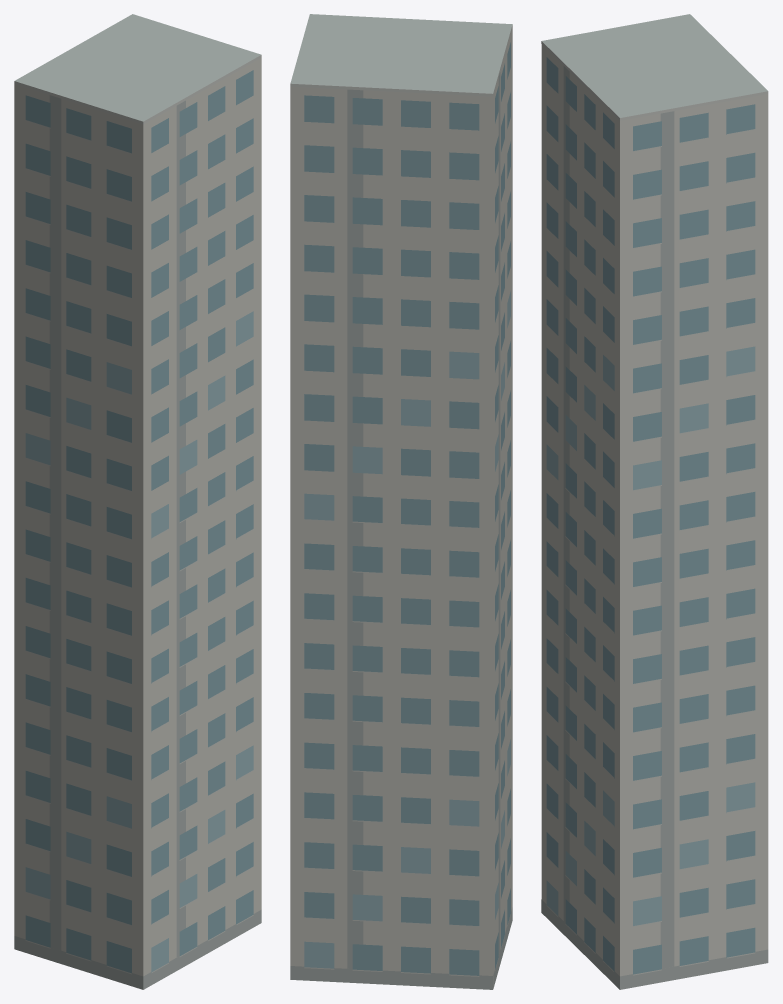
The model's file is residential-f878a995-dc59-4c0d-9200-f9db8b8c3e6a.glb.
The picture shows the model from 3 angles, left to right: view 1: azimuth 30°, elevation 25°; view 2: azimuth 150°, elevation 25°; view 3: azimuth 270°, elevation 25°; orthographic projection. The views are drawn at different scales.
Parts seen in each view (by area): view 1: residential-f878a995-dc59-4c0d-9200-f9db8b8c3e6a.tmp; view 2: residential-f878a995-dc59-4c0d-9200-f9db8b8c3e6a.tmp; view 3: residential-f878a995-dc59-4c0d-9200-f9db8b8c3e6a.tmp.
Part boxes in pixels (x1=…): residential-f878a995-dc59-4c0d-9200-f9db8b8c3e6a.tmp: x1=14, y1=14, x2=261, y2=989; residential-f878a995-dc59-4c0d-9200-f9db8b8c3e6a.tmp: x1=290, y1=14, x2=512, y2=989; residential-f878a995-dc59-4c0d-9200-f9db8b8c3e6a.tmp: x1=541, y1=14, x2=768, y2=989.
Size of the model in its own units: 18.96 by 74 by 17.47.
